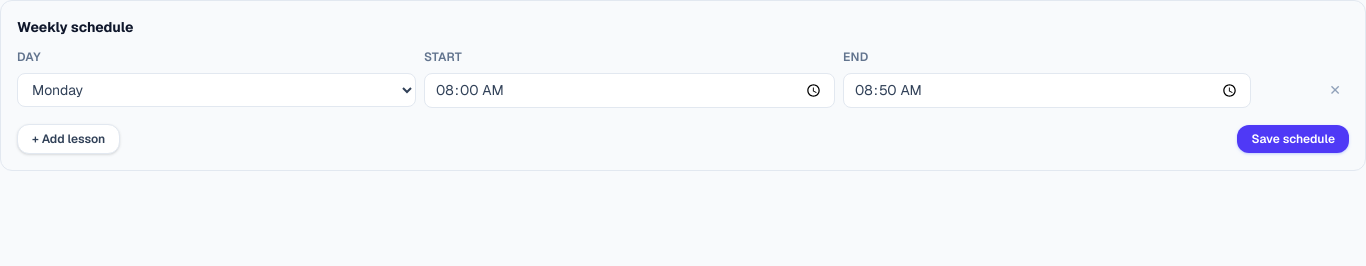
Scenario: ScheduleEditor › explains a clash in the current language
This screenshot has width=1366, height=266.
Click the button "Save schedule".
click(1293, 139)  # box [1237,125,1349,153]
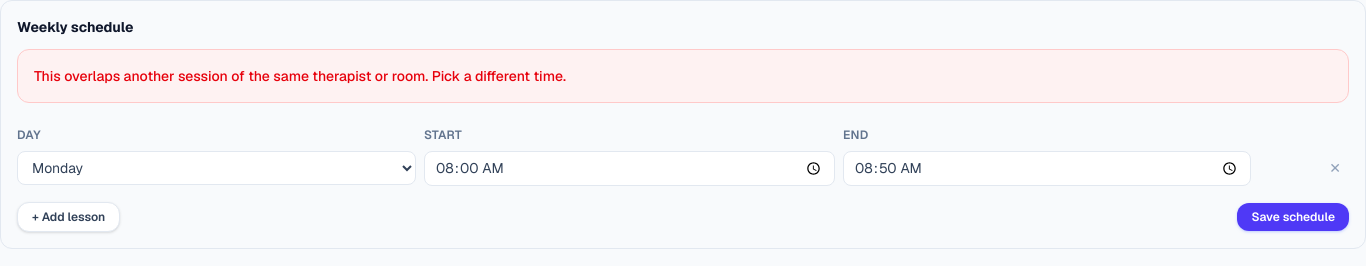
Expected: the message shows "overlaps another session of the same therapist or room", [34,67,566,85]
